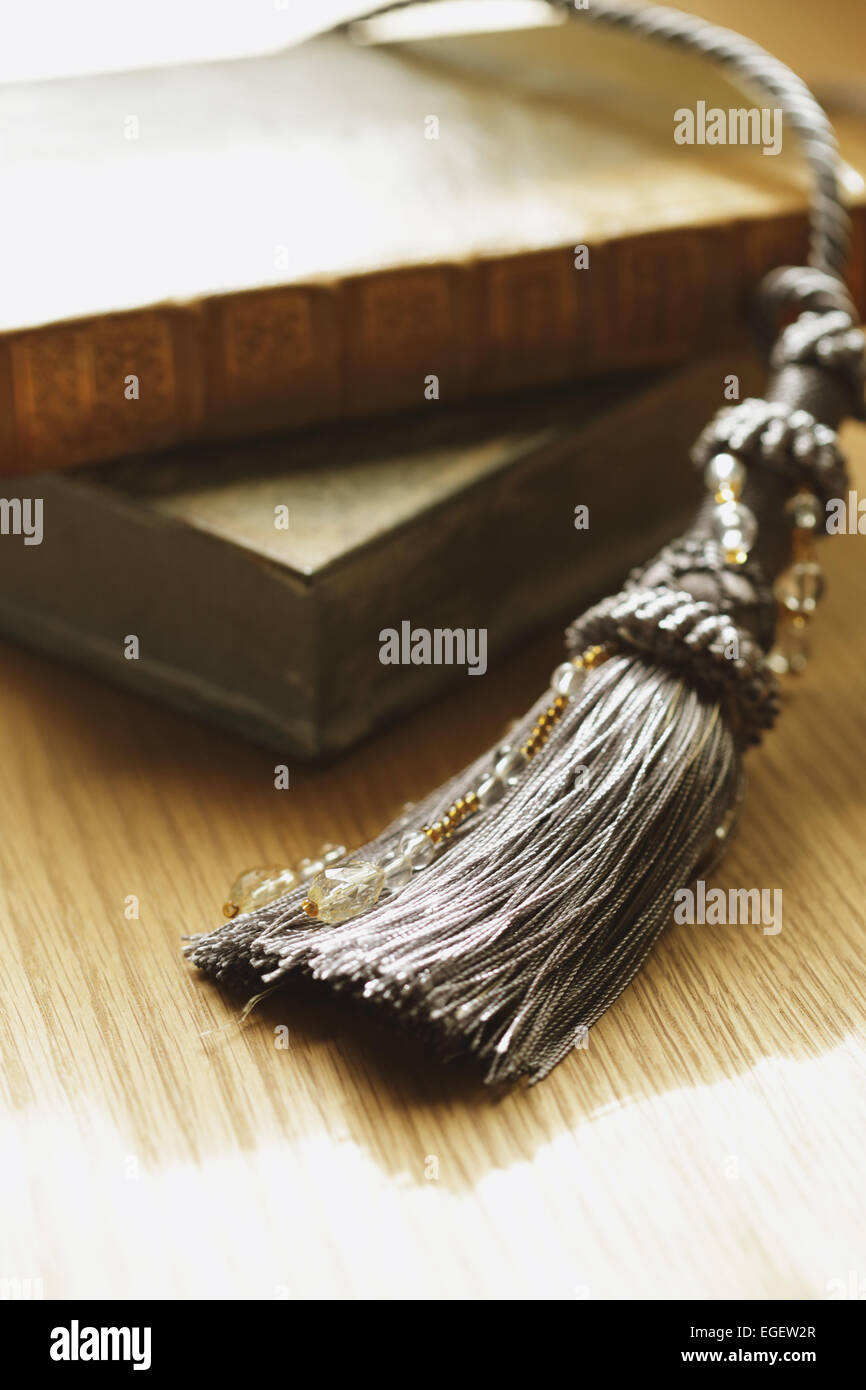book: (8, 20, 866, 804)
